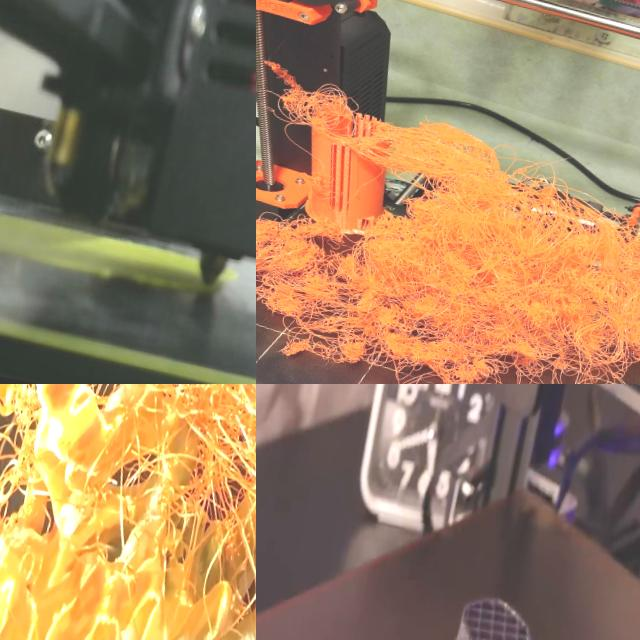spaghetti: (256, 47, 640, 384), (0, 384, 256, 640)
